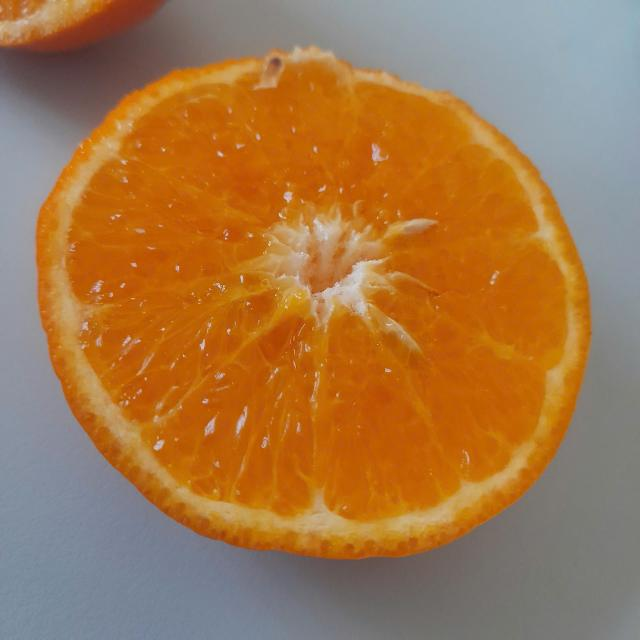Cam: (38, 52, 594, 549)
